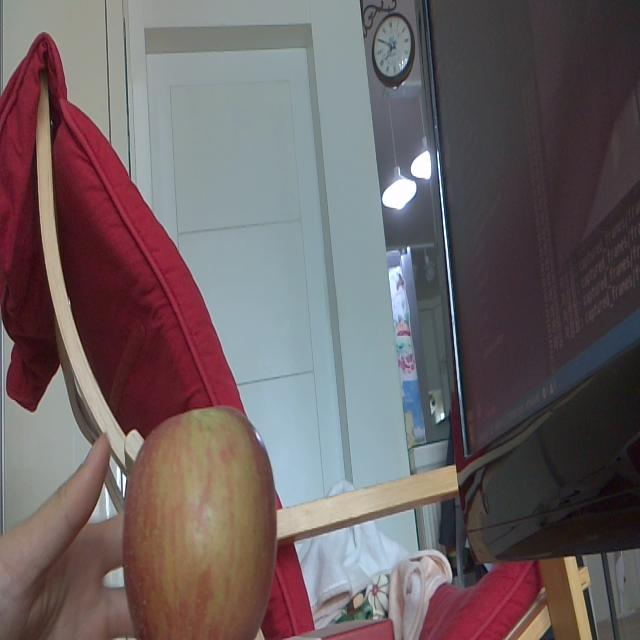apple: (124, 407, 282, 640)
